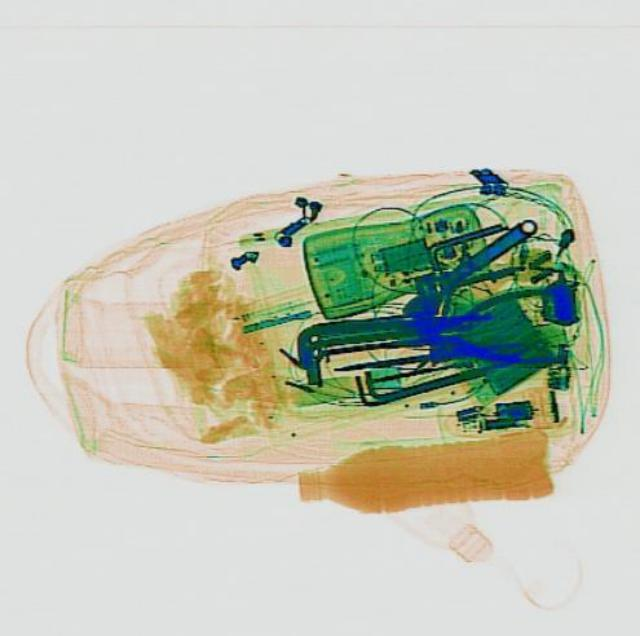Pliers: (401, 284, 559, 366)
Wrench: (394, 204, 546, 330)
